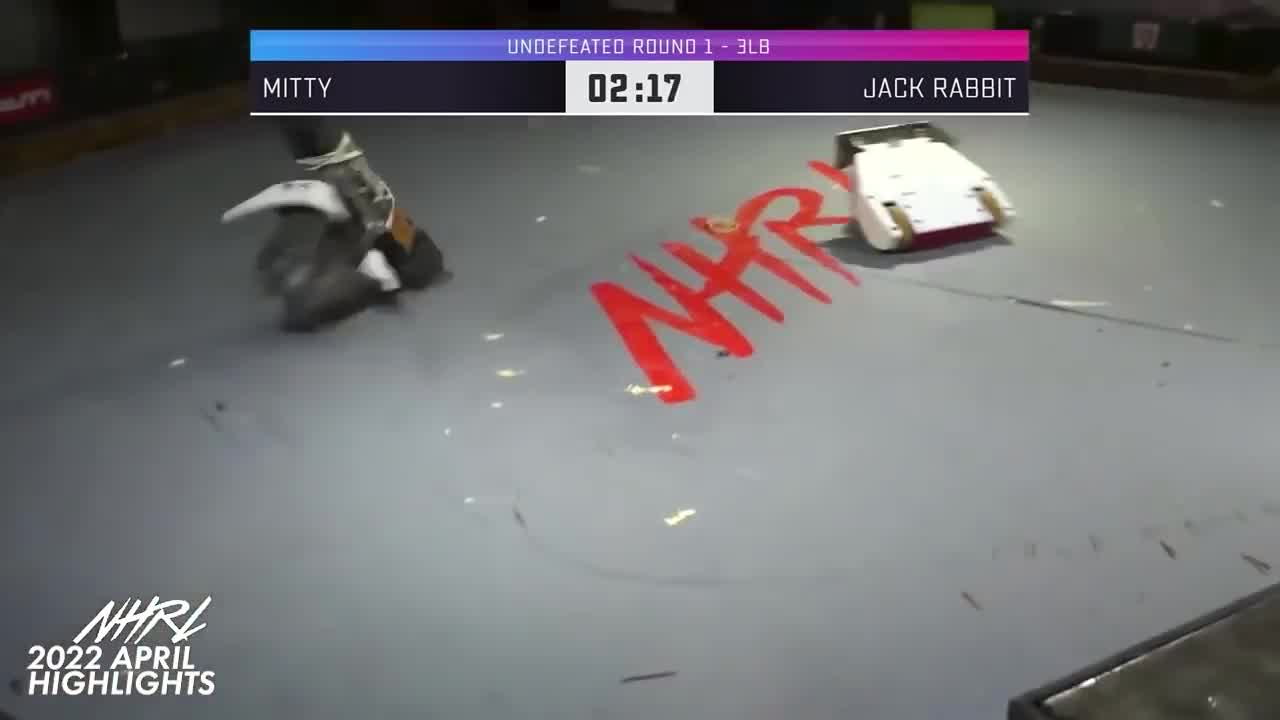combatbot: (222, 118, 451, 316), (831, 125, 1020, 260)
